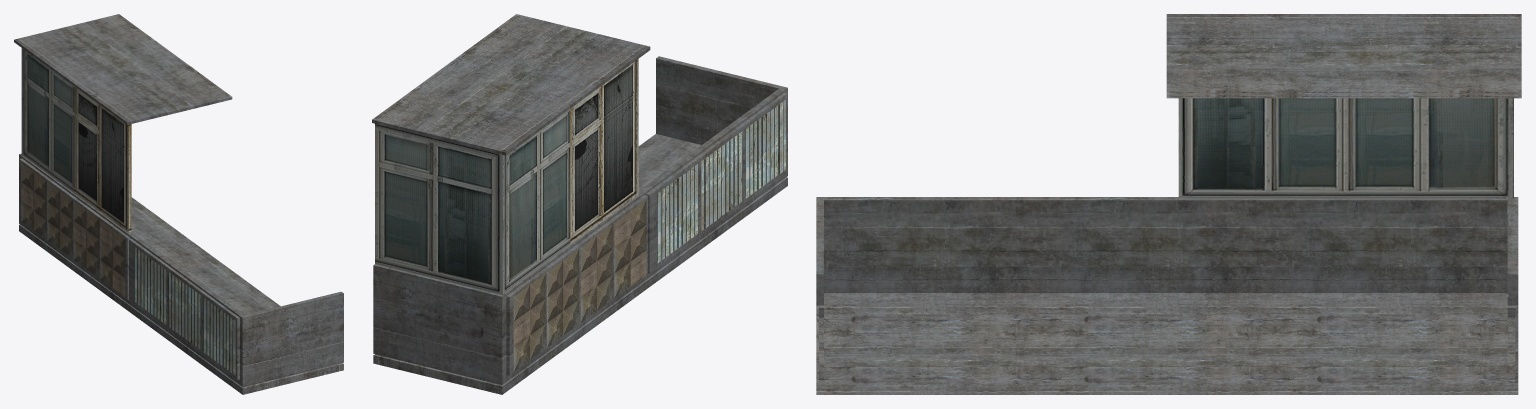
Rendered from civ_balcony_double_b.FBX.
3 views of the same model, side by side, from view 1: azimuth 30°, elevation 25°; view 2: azimuth 150°, elevation 25°; view 3: azimuth 270°, elevation 25° (orthographic). The views are drawn at different scales.
Parts seen in each view (by area): view 1: civ_balcony_double_b; view 2: civ_balcony_double_b; view 3: civ_balcony_double_b.
Boxes of the visible parts, left/top/right/bottom form: civ_balcony_double_b: left=14, top=14, right=343, bottom=394; civ_balcony_double_b: left=372, top=14, right=787, bottom=394; civ_balcony_double_b: left=816, top=14, right=1521, bottom=394.
Bounding box in the file's own units: 161 × 280 × 596.
